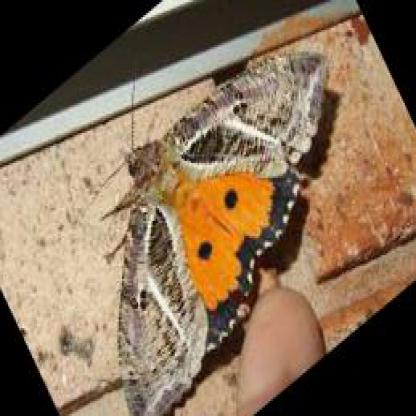fruit sucking moth: (118, 49, 328, 406)
